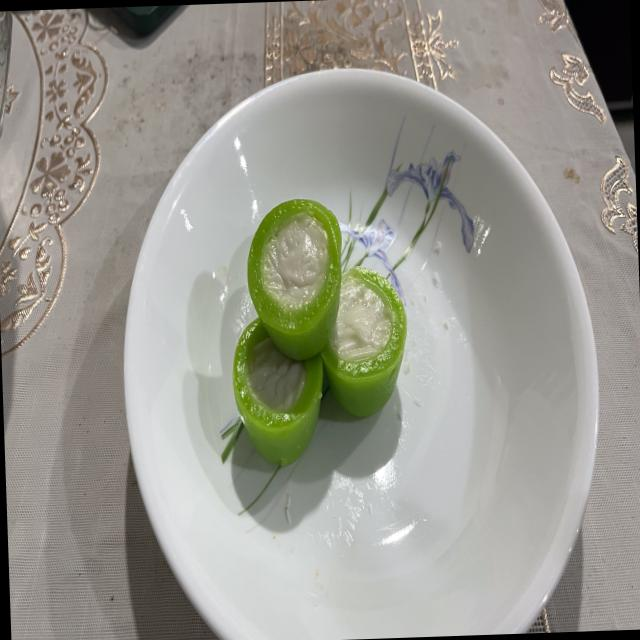nona-manis: (247, 198, 341, 361), (232, 318, 322, 466), (321, 267, 407, 416)
